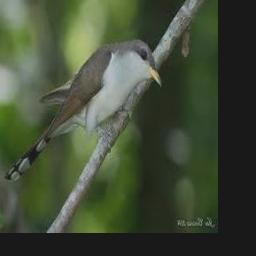Cuckoo: (5, 39, 162, 182)
